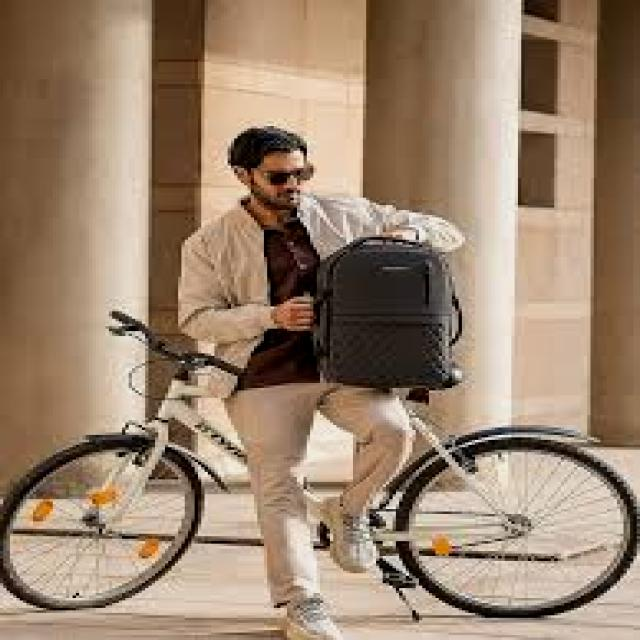backpack: (308, 234, 463, 392)
